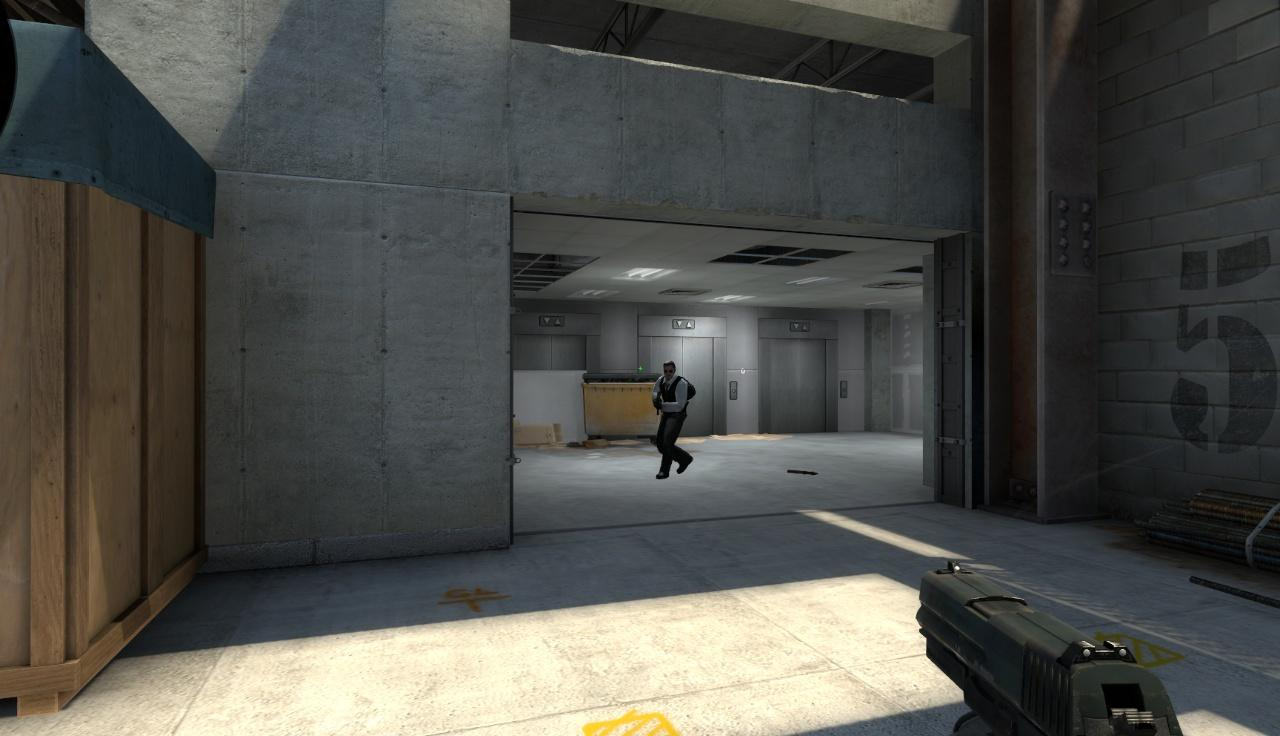pistol: (915, 558, 1183, 733)
tt: (651, 361, 695, 480)
tthead: (663, 361, 675, 379)
